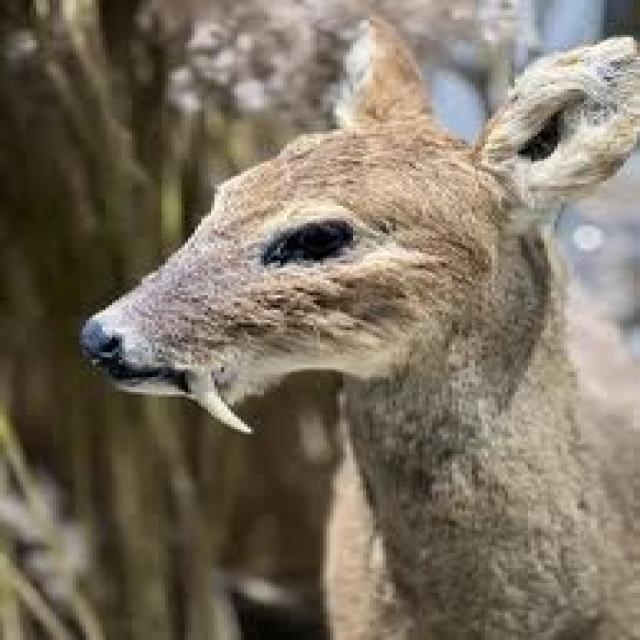elk: (95, 13, 640, 640)
